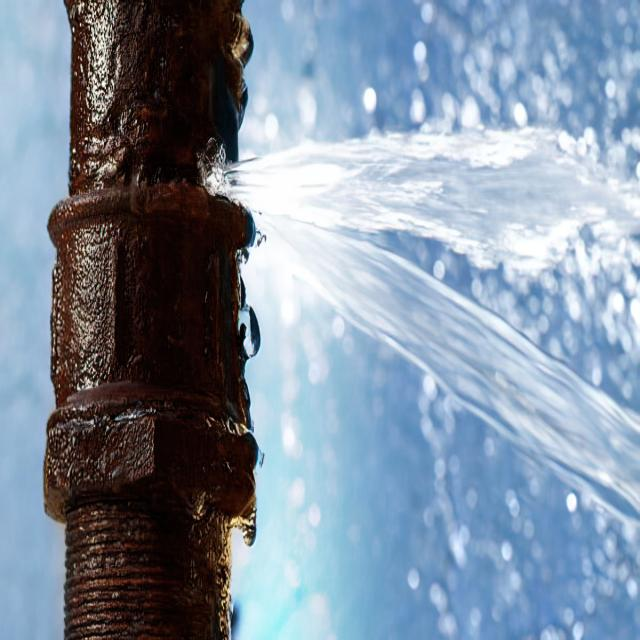leak: (208, 129, 640, 521)
